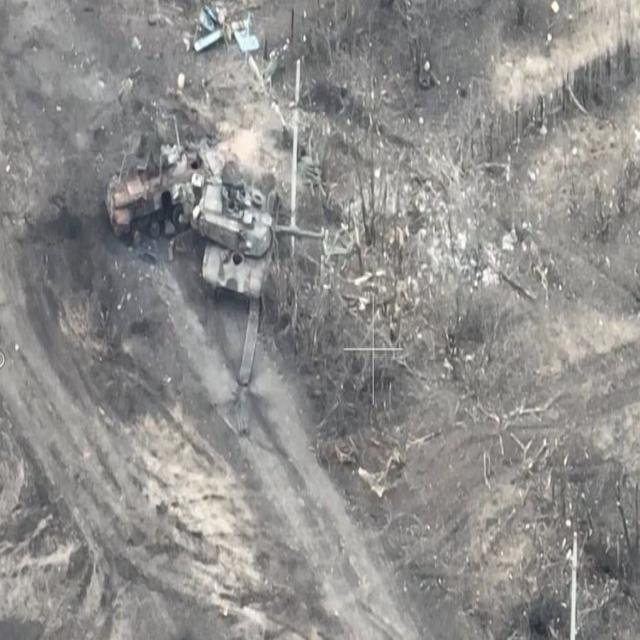vehicle: (193, 174, 325, 306), (105, 146, 218, 238)
